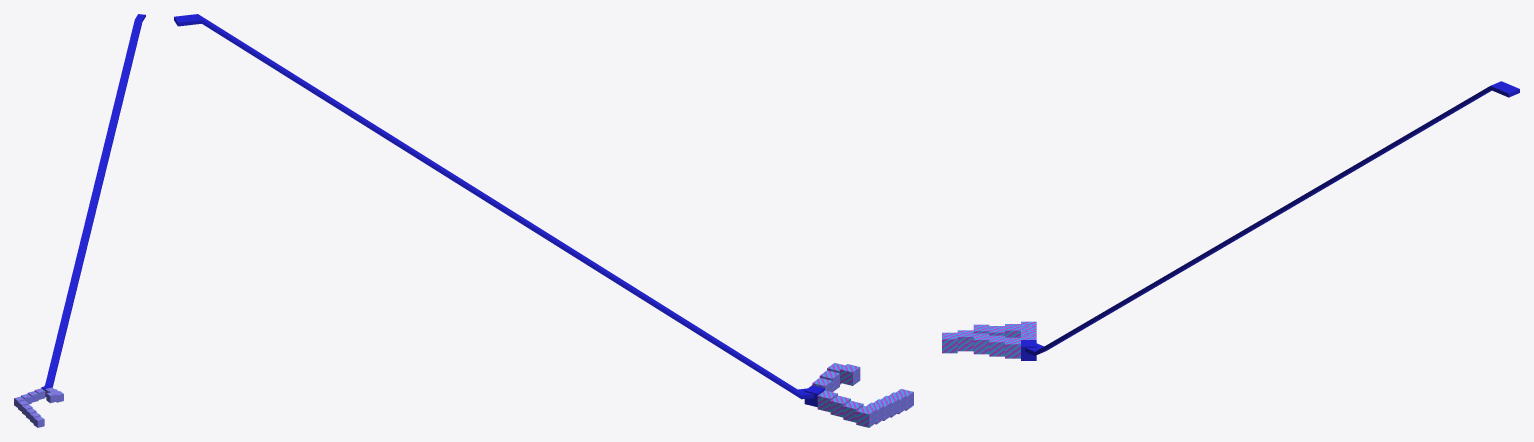
3 views of the same model, side by side, from view 1: azimuth 30°, elevation 25°; view 2: azimuth 150°, elevation 25°; view 3: azimuth 270°, elevation 25° (orthographic). The views are drawn at different scales.
Parts seen in each view (by area): view 1: model; view 2: model; view 3: model.
Boxes of the visible parts, x1,y1,x2,y2 form: model: [14, 14, 145, 427]; model: [174, 14, 913, 427]; model: [942, 81, 1519, 360].
Bounding box in the file's own units: 73.2 × 69.57 × 73.33.
Materials: 2 (1 with a texture image).
